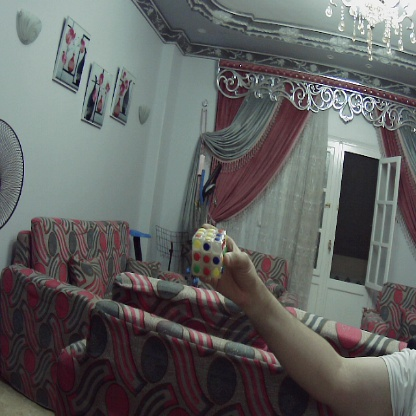Rubix Cube: (190, 228, 229, 281)
